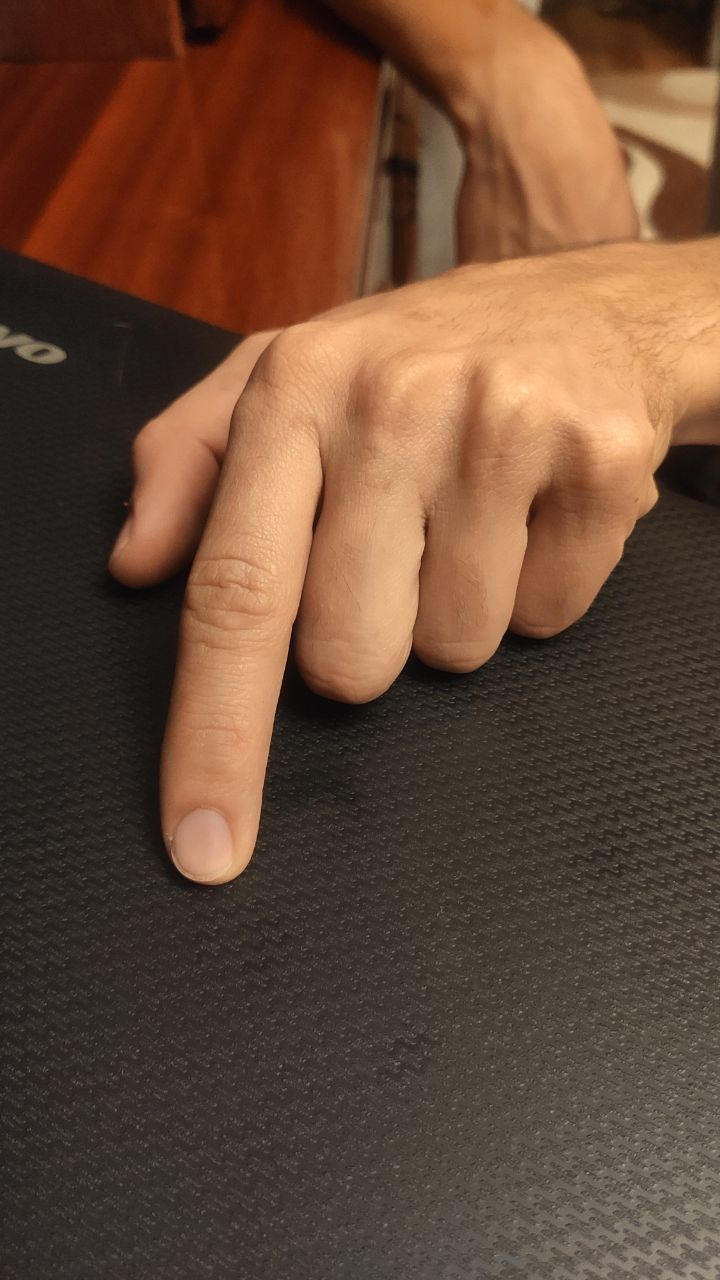finger: (159, 767, 261, 880)
